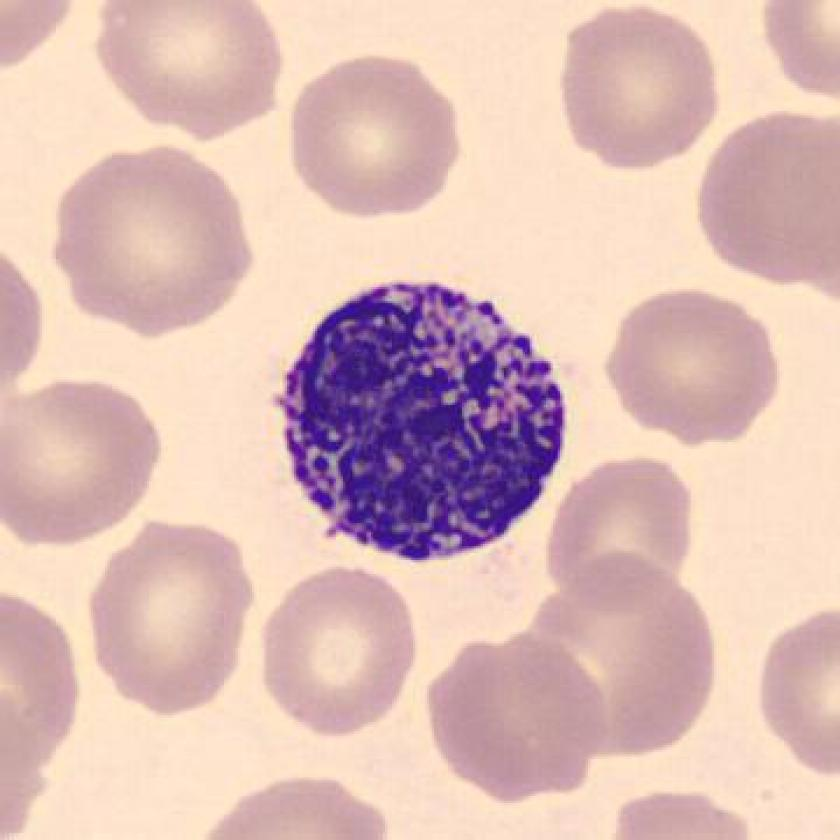basophil: (269, 267, 573, 570)
